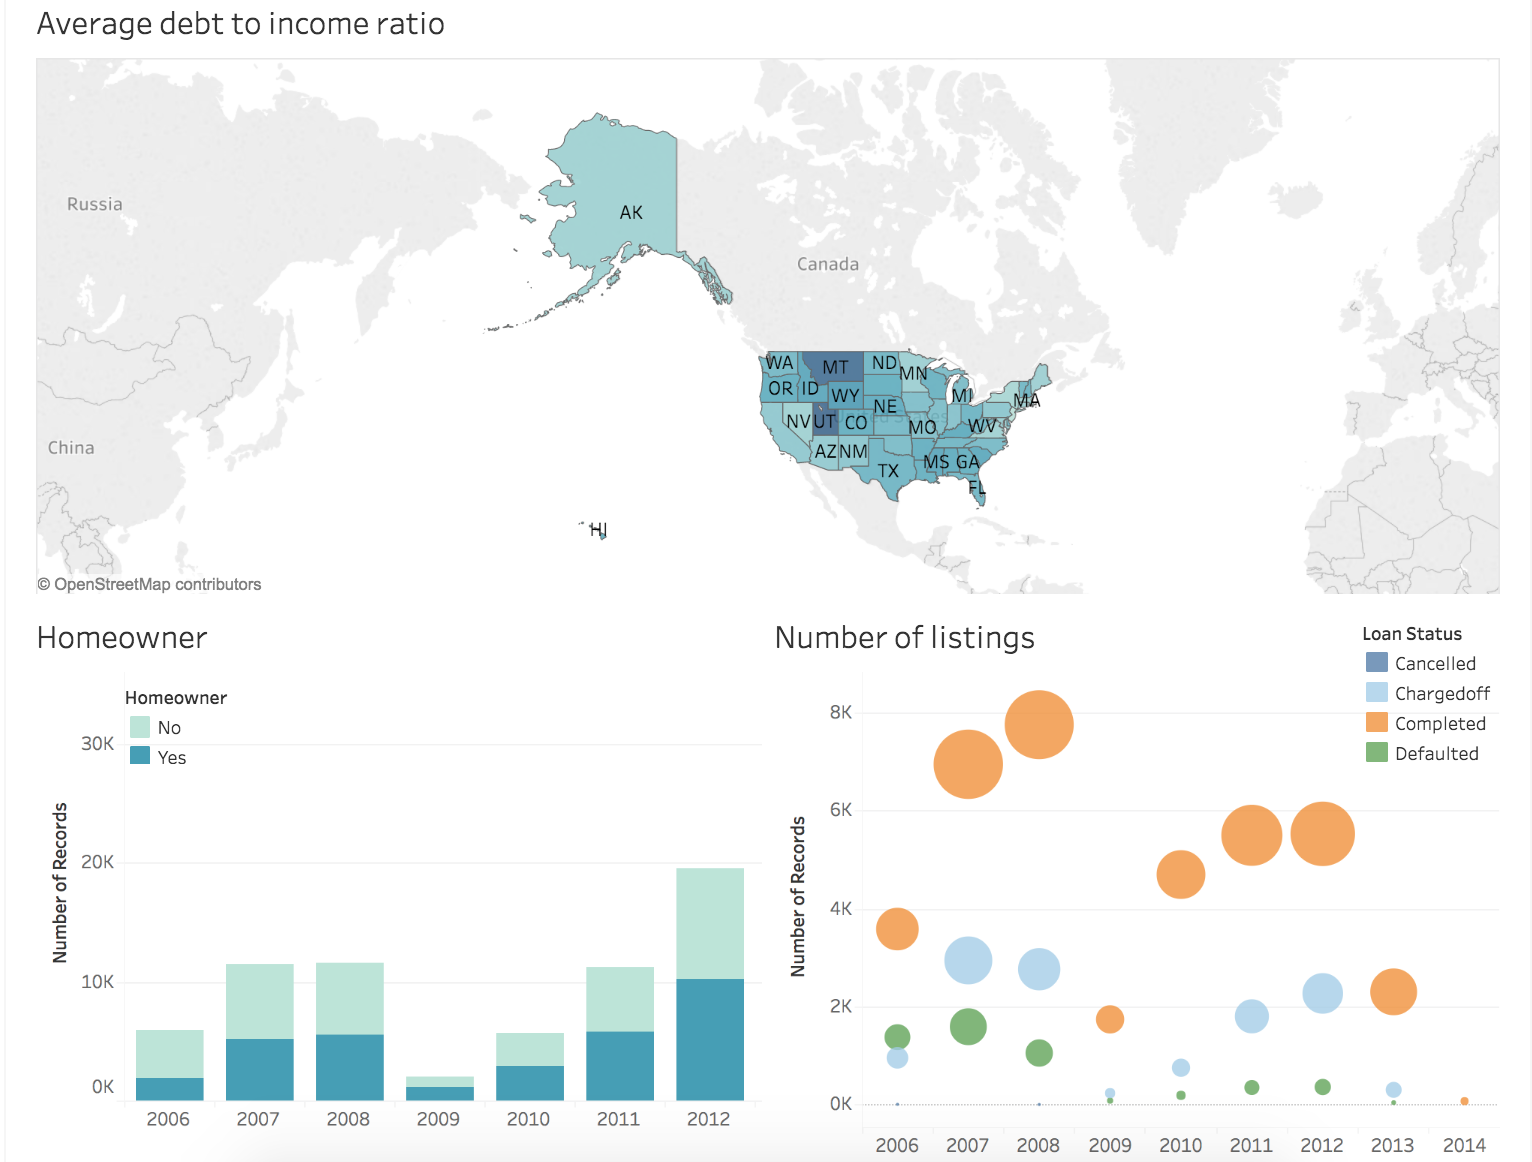

This screenshot's page, from the dashboard's own definition file:
{"tool":"tableau","page":{"name":"Number of Listings","canvas":[1000,800],"ordinal":5},"visuals":[{"type":"worksheet","title":"Debt:Income ratio by state","mark":"Automatic","box":[8,8,984,368]},{"type":"worksheet","title":"Loan status by year","mark":"Shape","rows":["Number of Records"],"cols":["LoanOriginationDate"],"box":[8,376,492,416]},{"type":"worksheet","title":"Homeowner","mark":"Bar","rows":["Number of Records"],"cols":["LoanOriginationDate"],"box":[500,376,492,416]},{"type":"legend","title":"Loan status by year","param":"[federated.0pn7rhj1keamz719yek9c1ar50si].[none:LoanStatus:nk]","box":[386,403,140,111]},{"type":"legend","title":"Homeowner","param":"[federated.0pn7rhj1keamz719yek9c1ar50si].[none:IsBorrowerHomeowner:nk]","box":[551,436,170,61]}]}

Visuals, with their boxes on the page's 1000x800 design canvas (x1, y1, x2, y2). These are canvas units, not pixel positions in the 1532x1162 screenshot, which may show the page scaled, cropped or inside an application window:
"Debt:Income ratio by state" worksheet: <bbox>8, 8, 992, 376</bbox>
"Loan status by year" worksheet (Shape marks): <bbox>8, 376, 500, 792</bbox>
"Homeowner" worksheet (Bar marks): <bbox>500, 376, 992, 792</bbox>
"Loan status by year" legend: <bbox>386, 403, 526, 514</bbox>
"Homeowner" legend: <bbox>551, 436, 721, 497</bbox>
